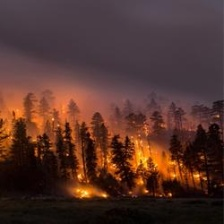fire: (42, 117, 217, 204)
